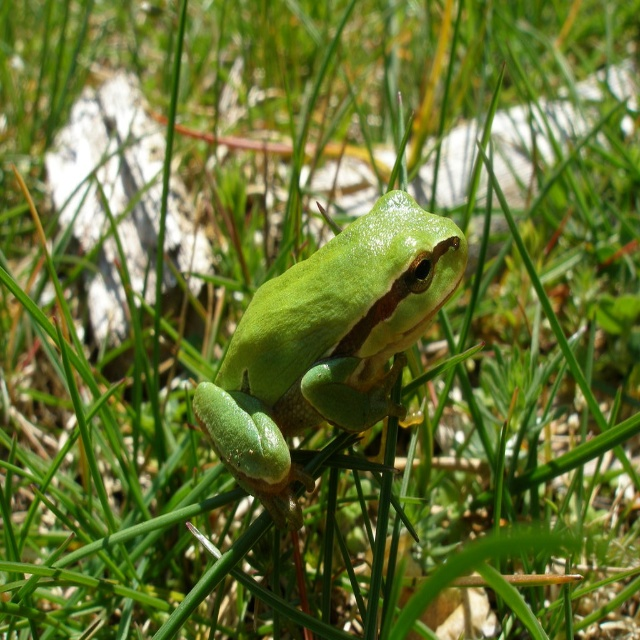Frog: (192, 190, 468, 531)
